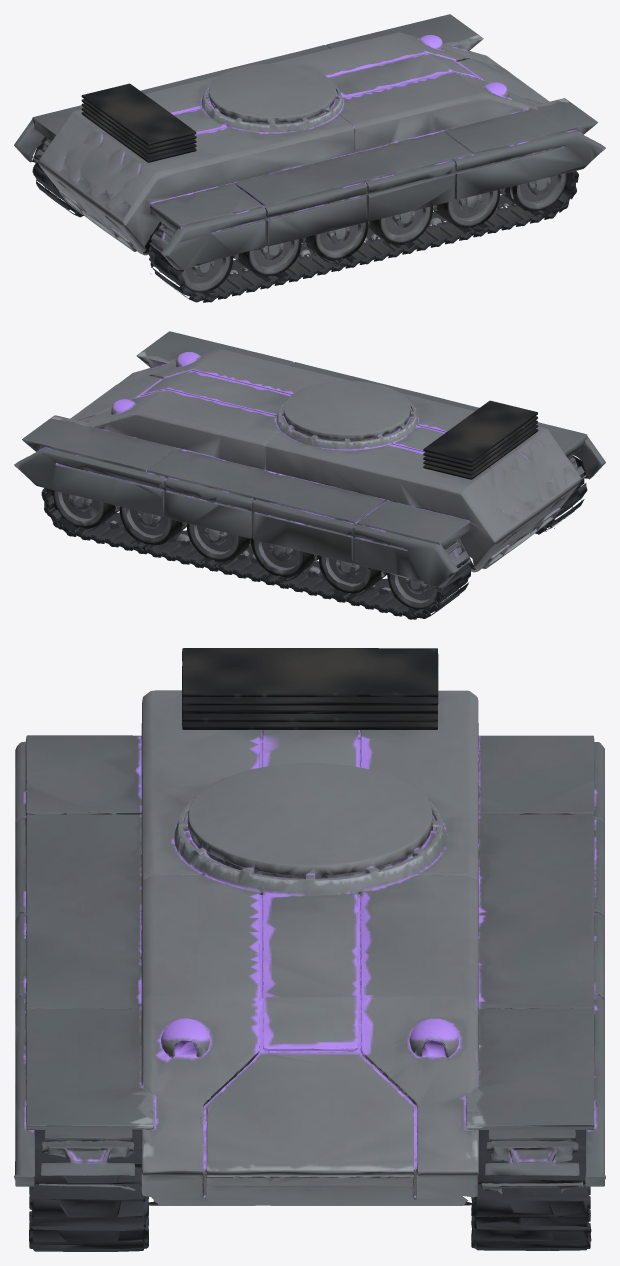
The model's file is chassis-vanguard-1-full.glb.
3 views of the same model, one above another, from view 1: azimuth 30°, elevation 25°; view 2: azimuth 150°, elevation 25°; view 3: azimuth 270°, elevation 25° (orthographic). The views are drawn at different scales.
Visible parts, largest first — view 1: chassis-vanguard-1-full; view 2: chassis-vanguard-1-full; view 3: chassis-vanguard-1-full.
Part boxes in pixels (<box>): chassis-vanguard-1-full: <box>14,14,605,302</box>; chassis-vanguard-1-full: <box>14,331,605,619</box>; chassis-vanguard-1-full: <box>14,648,605,1251</box>.
Bounding box in the file's own units: 2.56 × 0.7405 × 1.52.
Materials: 1 (1 with a texture image).
